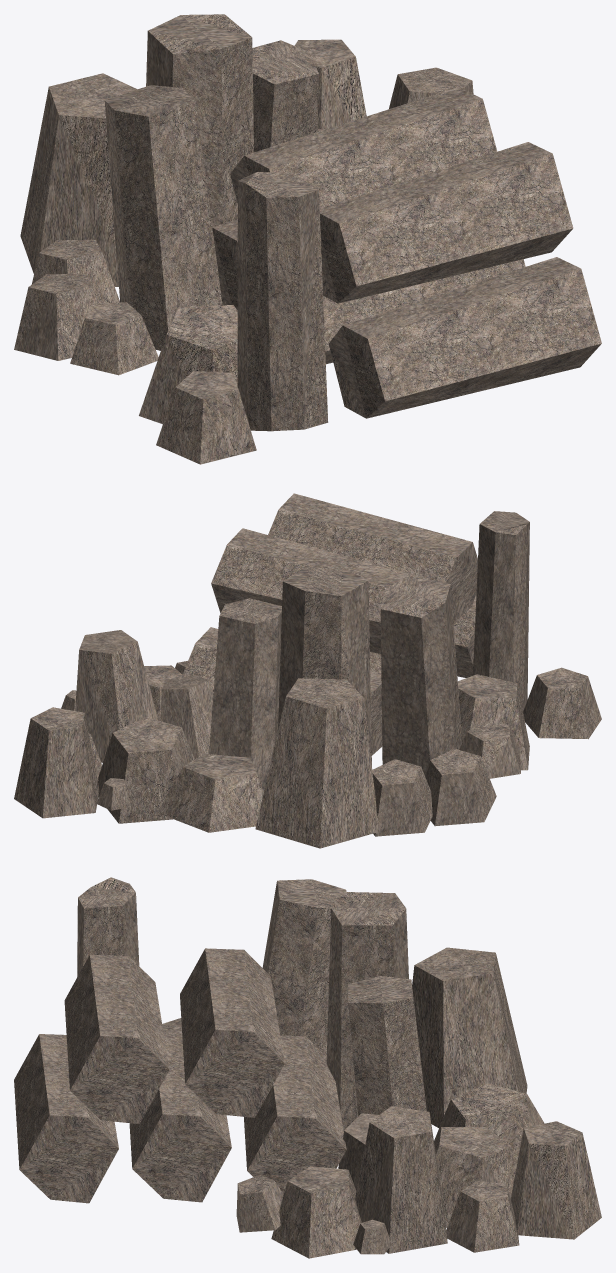
File: poi_all_construction_stone_pile_l1.fbx
The picture shows the model from 3 angles, top to bottom: view 1: azimuth 30°, elevation 25°; view 2: azimuth 150°, elevation 25°; view 3: azimuth 270°, elevation 25°; orthographic projection. The views are drawn at different scales.
Parts seen in each view (by area): view 1: mesh_node; view 2: mesh_node; view 3: mesh_node.
Boxes of the visible parts, x1,y1,x2,y2 form: mesh_node: (14, 14, 601, 464); mesh_node: (14, 493, 601, 848); mesh_node: (14, 877, 601, 1258).
Size of the model in its own units: 12.51 by 6.48 by 14.3.
Materials: 1 (1 with a texture image).
